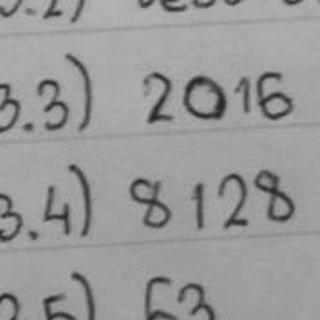.: (20, 119, 37, 135), (25, 226, 41, 242)
0: (181, 74, 229, 123)
1: (190, 181, 207, 232), (233, 74, 252, 116)
2: (138, 69, 177, 125), (215, 172, 251, 230)
3: (36, 76, 71, 133)
4: (42, 183, 72, 236)
6: (255, 70, 295, 121)
8: (127, 175, 174, 231), (253, 168, 298, 223)
